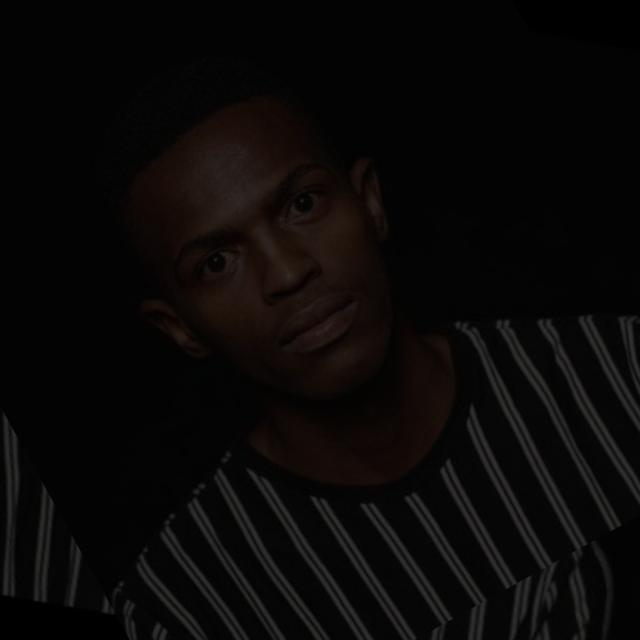Natural: (122, 103, 398, 474)
